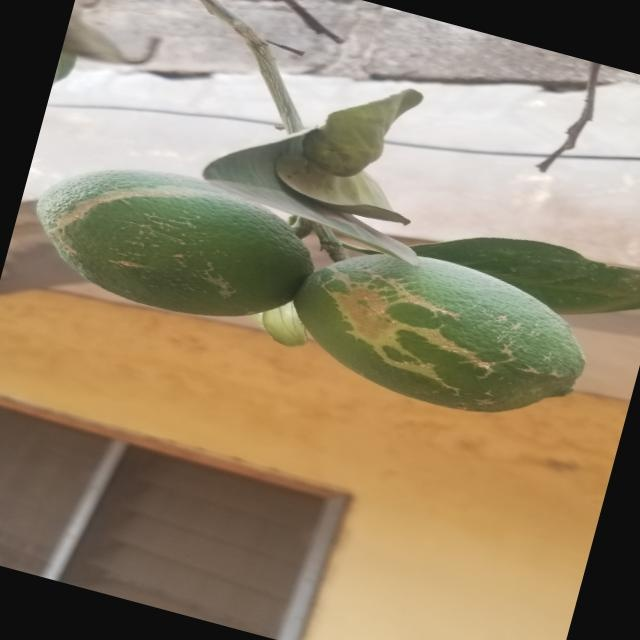agrume: (273, 225, 602, 439), (25, 140, 319, 340)
